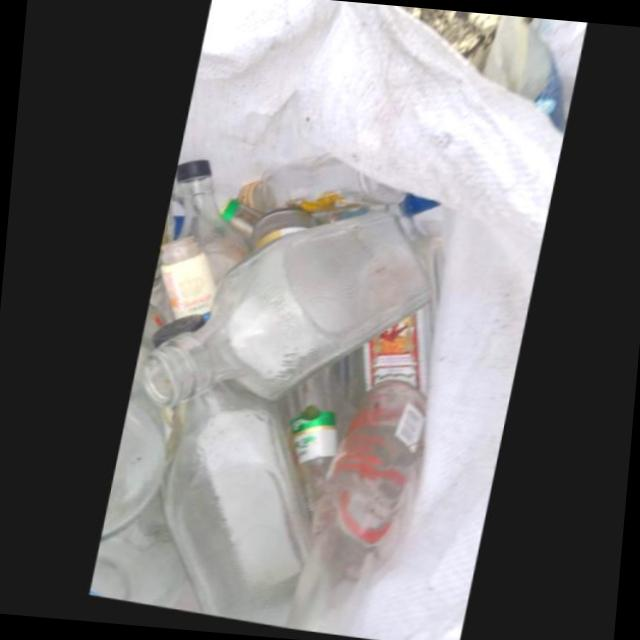chai_thuy_tinh: (139, 215, 425, 413), (158, 395, 309, 631), (289, 385, 424, 639), (232, 158, 400, 221), (169, 165, 243, 288)
